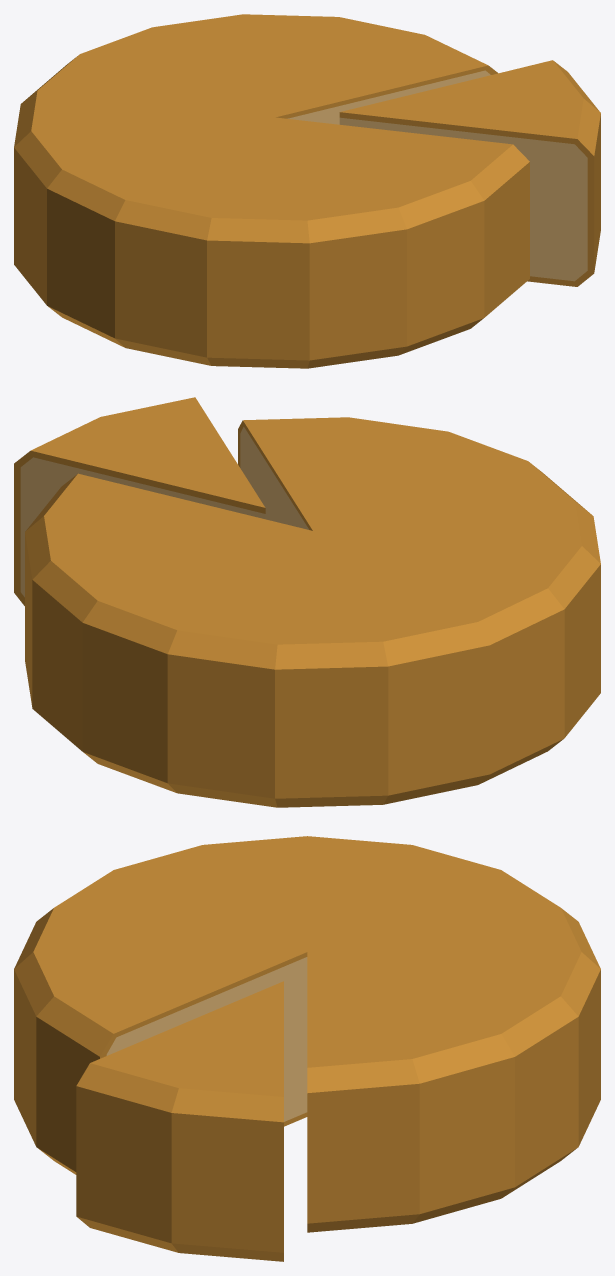
The model's file is env_Cheese.fbx.
The picture shows the model from 3 angles, top to bottom: view 1: azimuth 30°, elevation 25°; view 2: azimuth 150°, elevation 25°; view 3: azimuth 270°, elevation 25°; orthographic projection. The views are drawn at different scales.
Parts seen in each view (by area): view 1: Env_Cheese; view 2: Env_Cheese; view 3: Env_Cheese.
Boxes of the visible parts, x1,y1,x2,y2 form: Env_Cheese: (14,14,600,368); Env_Cheese: (14,397,600,807); Env_Cheese: (14,836,600,1261).
Bounding box in the file's own units: 224 × 61.97 × 200.
